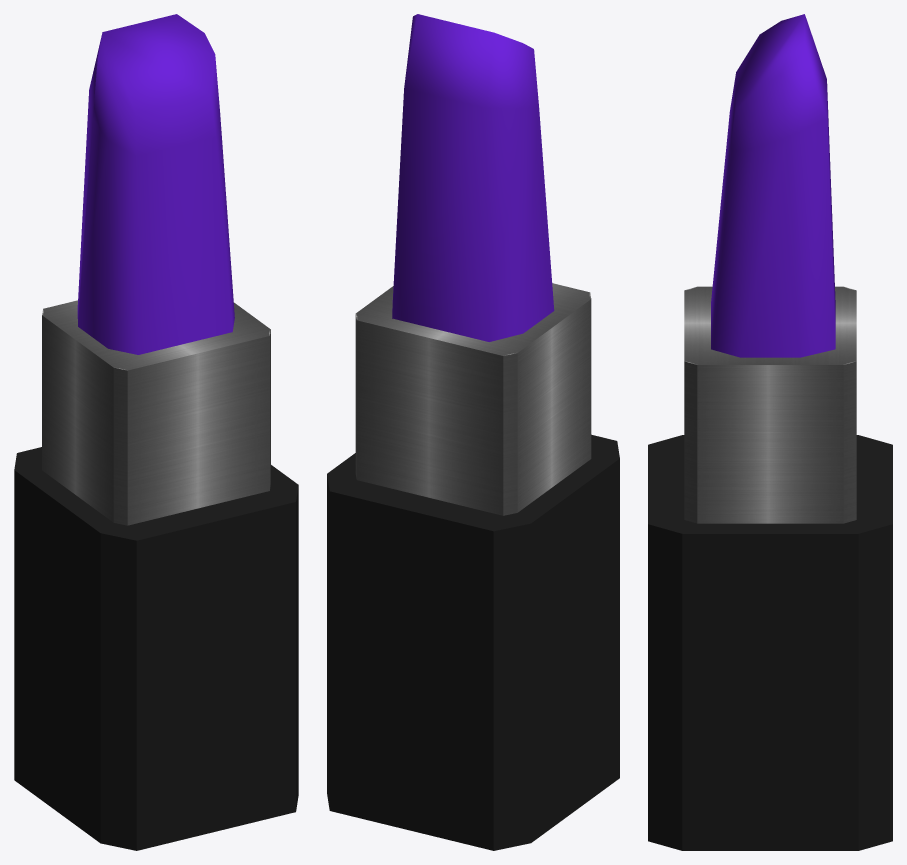
Rendered from Lipstick_C.FBX.
3 renders of one model, left to right at view 1: azimuth 30°, elevation 25°; view 2: azimuth 150°, elevation 25°; view 3: azimuth 270°, elevation 25°, orthographic. The views are drawn at different scales.
Parts seen in each view (by area): view 1: Lipstick; view 2: Lipstick; view 3: Lipstick.
Part boxes in pixels (box(x1,y1,x2,y2)): Lipstick: box(14, 14, 298, 850); Lipstick: box(327, 14, 619, 850); Lipstick: box(648, 14, 892, 850).
Size of the model in its own units: 13.37 by 48.5 by 14.
